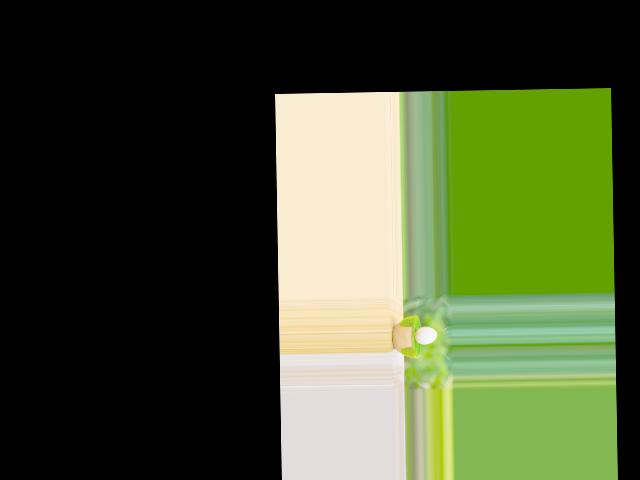egg: (414, 327, 436, 345)
